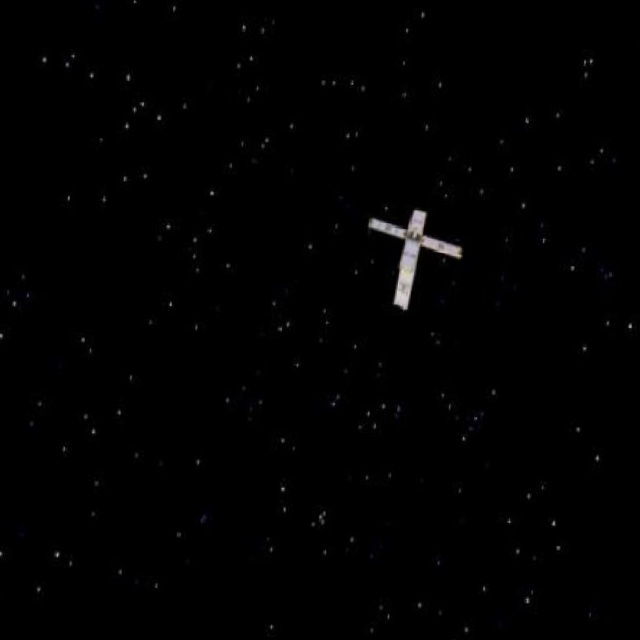medium_debris: (349, 196, 469, 323)
